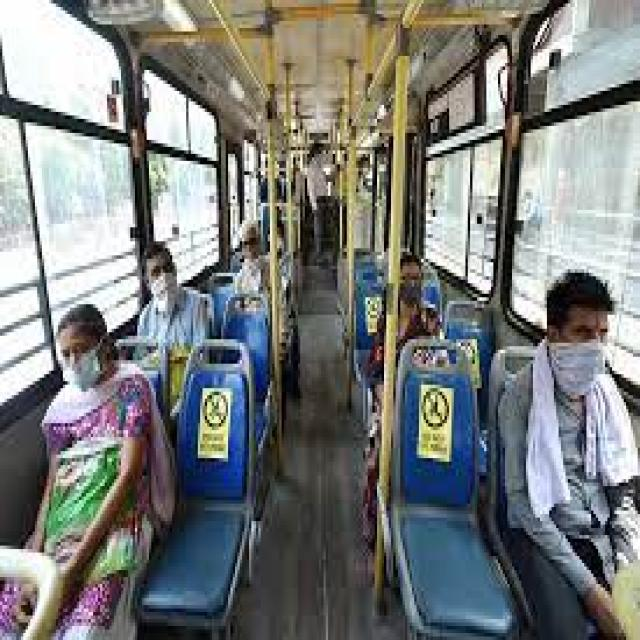empty-seat-frontal: (388, 337, 519, 638), (138, 337, 255, 627)
